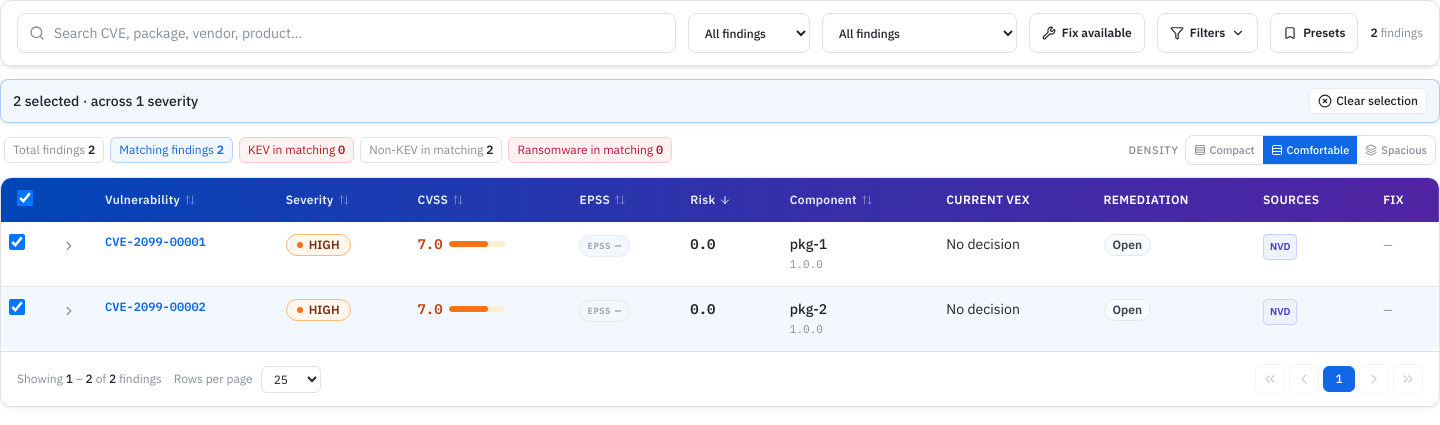
FindingsTable — selection column › clearing via the bulk toolbar removes every selected id
The width and height of the screenshot is (1440, 425).
Click the button with test id "selection-clear" at (1368, 101), box [1309,88,1427,114]
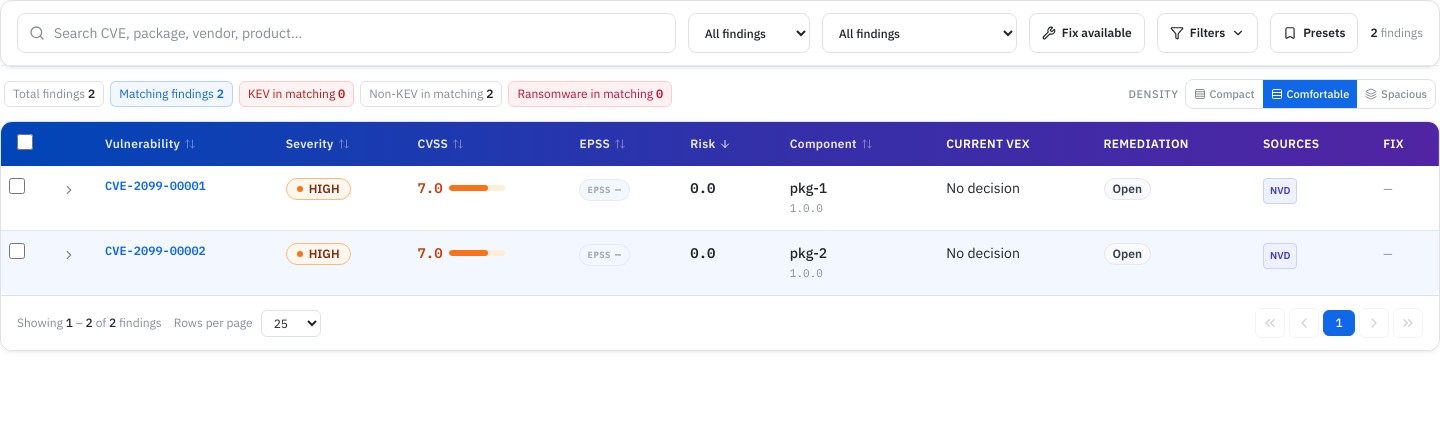
Expected: the element with test id "selection-toolbar" is gone
